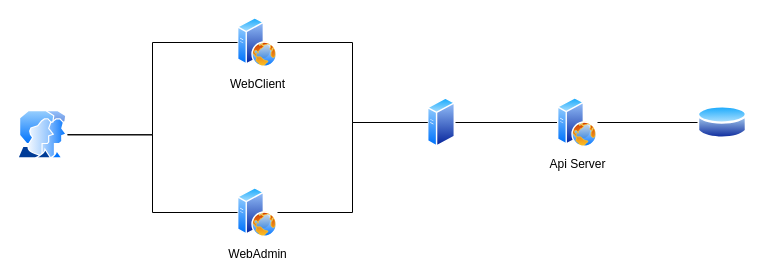
Some shapes in this 764 by 278 pixel diagram are drawn without their labels. Each missing label, with the centre of its shape:
"Identity Server" belongs at point 441,122.
"SQLite" belongs at point 722,122.
